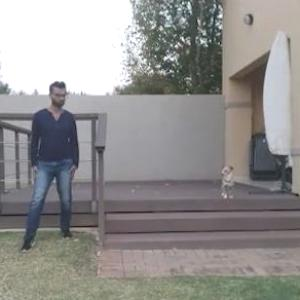follow: (28, 74, 79, 260)
